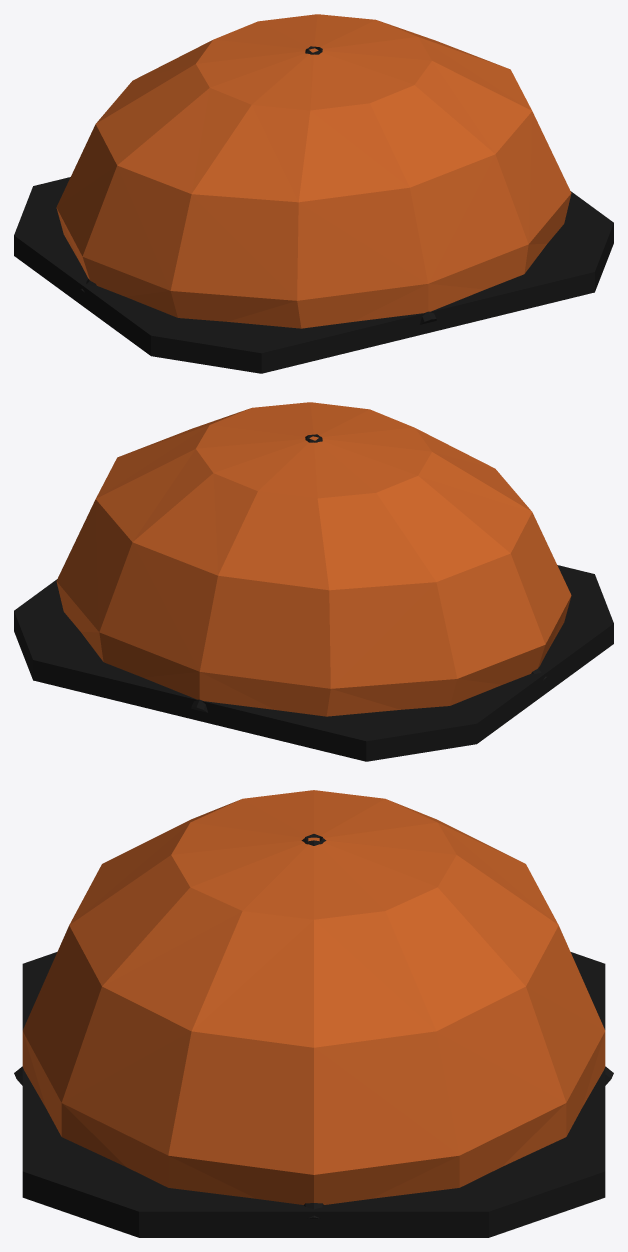
The model's file is ballhelm.glb.
3 views of the same model, one above another, from view 1: azimuth 30°, elevation 25°; view 2: azimuth 150°, elevation 25°; view 3: azimuth 270°, elevation 25° (orthographic). The views are drawn at different scales.
Parts seen in each view (by area): view 1: Ball Helm.002; view 2: Ball Helm.002; view 3: Ball Helm.002.
Part boxes in pixels (x1=…): Ball Helm.002: x1=14, y1=14, x2=613, y2=373; Ball Helm.002: x1=14, y1=402, x2=613, y2=761; Ball Helm.002: x1=14, y1=790, x2=613, y2=1237.
Bounding box in the file's own units: 0.7297 × 0.3016 × 0.6387.
